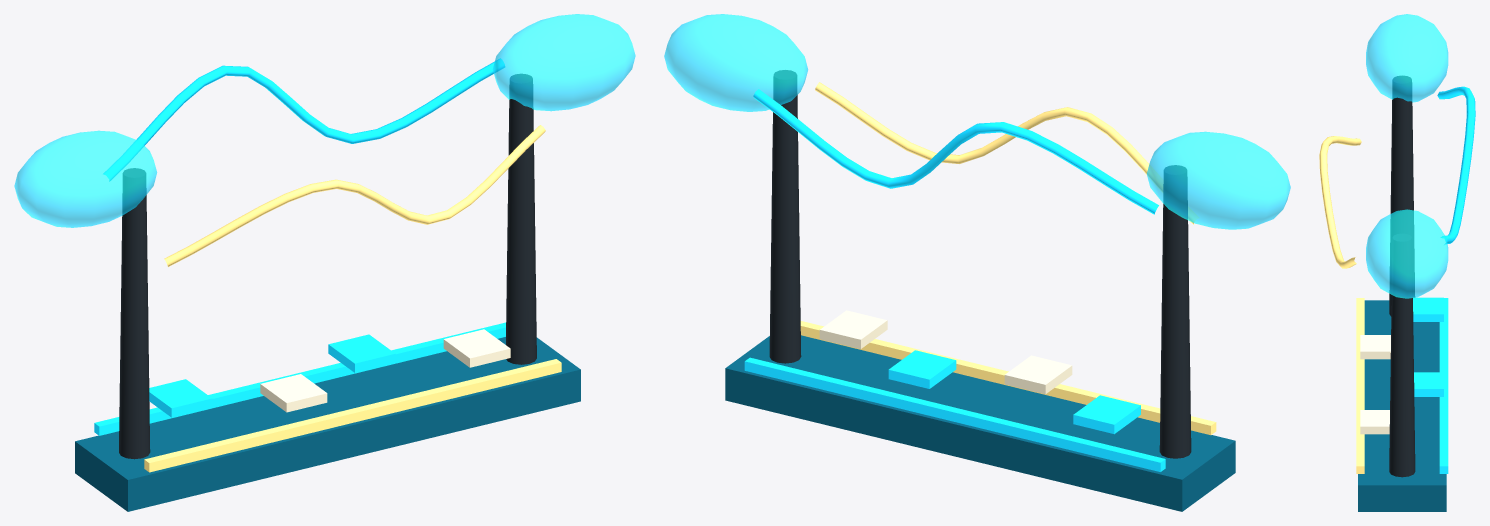
File: cloud-circuit-bridge.glb
The picture shows the model from 3 angles, left to right: view 1: azimuth 30°, elevation 25°; view 2: azimuth 150°, elevation 25°; view 3: azimuth 270°, elevation 25°; orthographic projection. The views are drawn at different scales.
Visible parts, largest first — view 1: skybridge-deck, left-cloud-node, right-cloud-node, bridge-left-pylon, bridge-right-pylon, deck-light-strip-b, electric-arc-front, electric-arc-back, deck-light-strip-a, circuit-pad-1, circuit-pad-3, circuit-pad-2 (+1 smaller); view 2: skybridge-deck, left-cloud-node, right-cloud-node, bridge-left-pylon, bridge-right-pylon, deck-light-strip-a, electric-arc-front, electric-arc-back, deck-light-strip-b, circuit-pad-2, circuit-pad-1, circuit-pad-3 (+1 smaller); view 3: skybridge-deck, right-cloud-node, left-cloud-node, bridge-right-pylon, bridge-left-pylon, electric-arc-front, deck-light-strip-a, electric-arc-back, deck-light-strip-b, circuit-pad-1, circuit-pad-0, circuit-pad-2 (+1 smaller).
Boxes of the visible parts, bbox=[...] form: skybridge-deck: bbox=[75, 337, 580, 511]; left-cloud-node: bbox=[14, 130, 156, 227]; right-cloud-node: bbox=[493, 14, 635, 111]; bridge-left-pylon: bbox=[119, 168, 150, 459]; bridge-right-pylon: bbox=[506, 74, 536, 364]; deck-light-strip-b: bbox=[144, 359, 561, 472]; electric-arc-front: bbox=[103, 58, 504, 181]; electric-arc-back: bbox=[164, 125, 545, 266]; deck-light-strip-a: bbox=[94, 322, 505, 435]; circuit-pad-1: bbox=[260, 374, 327, 412]; circuit-pad-3: bbox=[443, 329, 510, 367]; circuit-pad-2: bbox=[328, 334, 395, 372]; skybridge-deck: bbox=[725, 335, 1235, 511]; left-cloud-node: bbox=[1147, 131, 1290, 229]; right-cloud-node: bbox=[664, 14, 807, 111]; bridge-left-pylon: bbox=[1159, 165, 1191, 458]; bridge-right-pylon: bbox=[769, 70, 801, 363]; deck-light-strip-a: bbox=[744, 357, 1165, 471]; electric-arc-front: bbox=[753, 89, 1158, 214]; electric-arc-back: bbox=[815, 82, 1198, 224]; deck-light-strip-b: bbox=[800, 321, 1216, 435]; circuit-pad-2: bbox=[888, 350, 956, 388]; circuit-pad-1: bbox=[1004, 355, 1072, 394]; circuit-pad-3: bbox=[819, 310, 887, 348]; skybridge-deck: bbox=[1358, 300, 1446, 511]; right-cloud-node: bbox=[1366, 209, 1448, 298]; left-cloud-node: bbox=[1366, 14, 1448, 102]; bridge-right-pylon: bbox=[1389, 234, 1415, 477]; bridge-left-pylon: bbox=[1389, 75, 1414, 316]; electric-arc-front: bbox=[1437, 86, 1475, 244]; deck-light-strip-a: bbox=[1439, 298, 1448, 473]; electric-arc-back: bbox=[1319, 136, 1361, 268]; deck-light-strip-b: bbox=[1356, 298, 1364, 473]; circuit-pad-1: bbox=[1360, 335, 1390, 359]; circuit-pad-0: bbox=[1413, 297, 1443, 321]; circuit-pad-2: bbox=[1414, 372, 1443, 396].
Bounding box in the file's own units: 2.41 × 1.35 × 0.6355.
